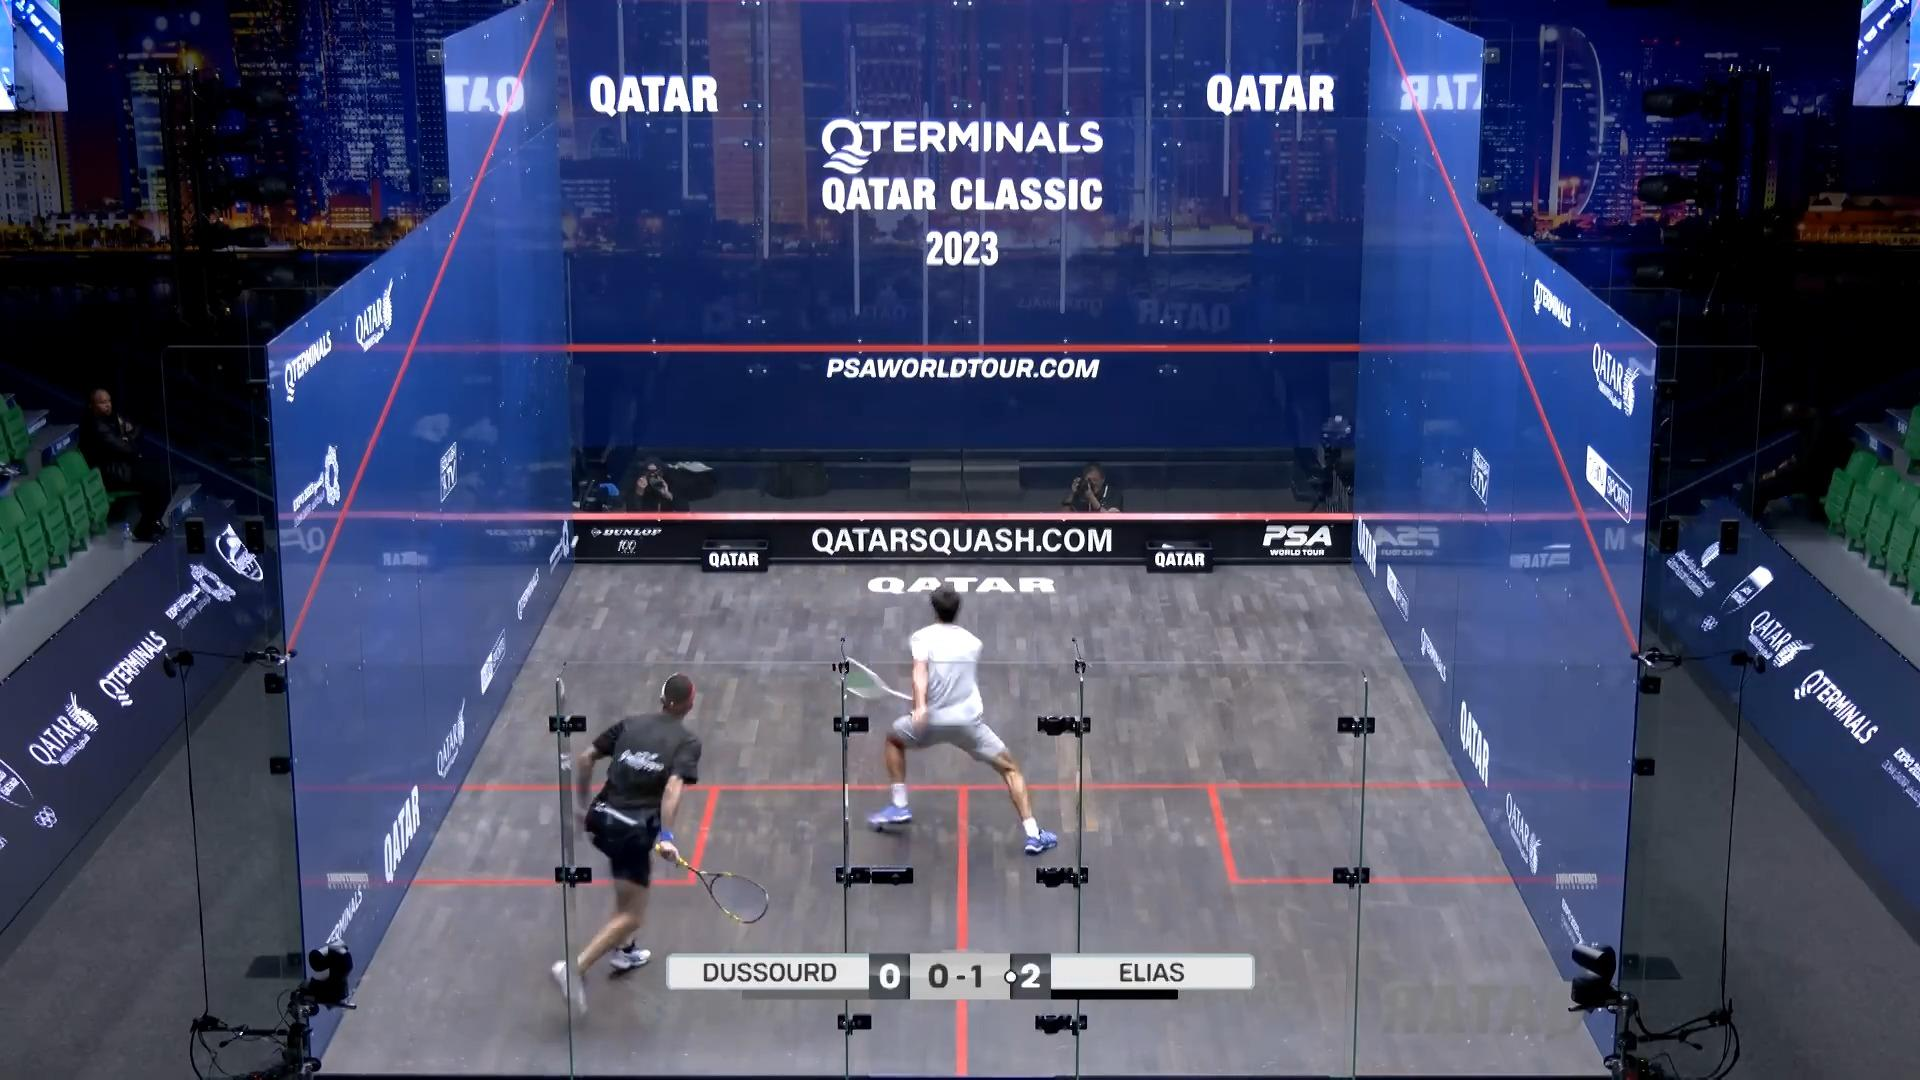Racket: (684, 847, 773, 930), (839, 654, 911, 707)
